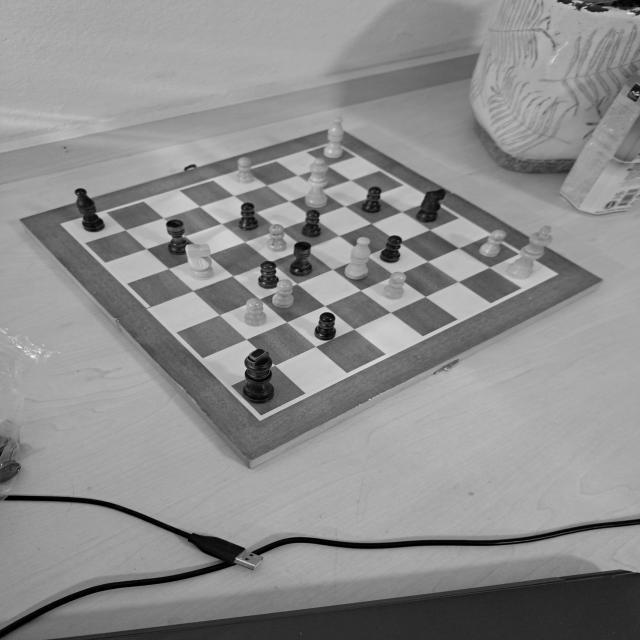chess-table-corners: (247, 406, 276, 426), (538, 264, 564, 282), (54, 217, 79, 233), (319, 138, 346, 152)
